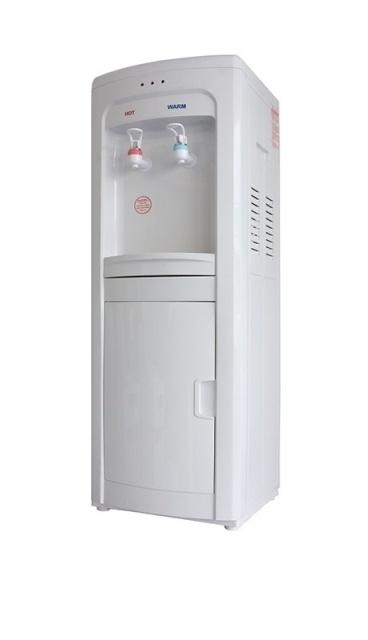Dispenser: (90, 53, 280, 530)
